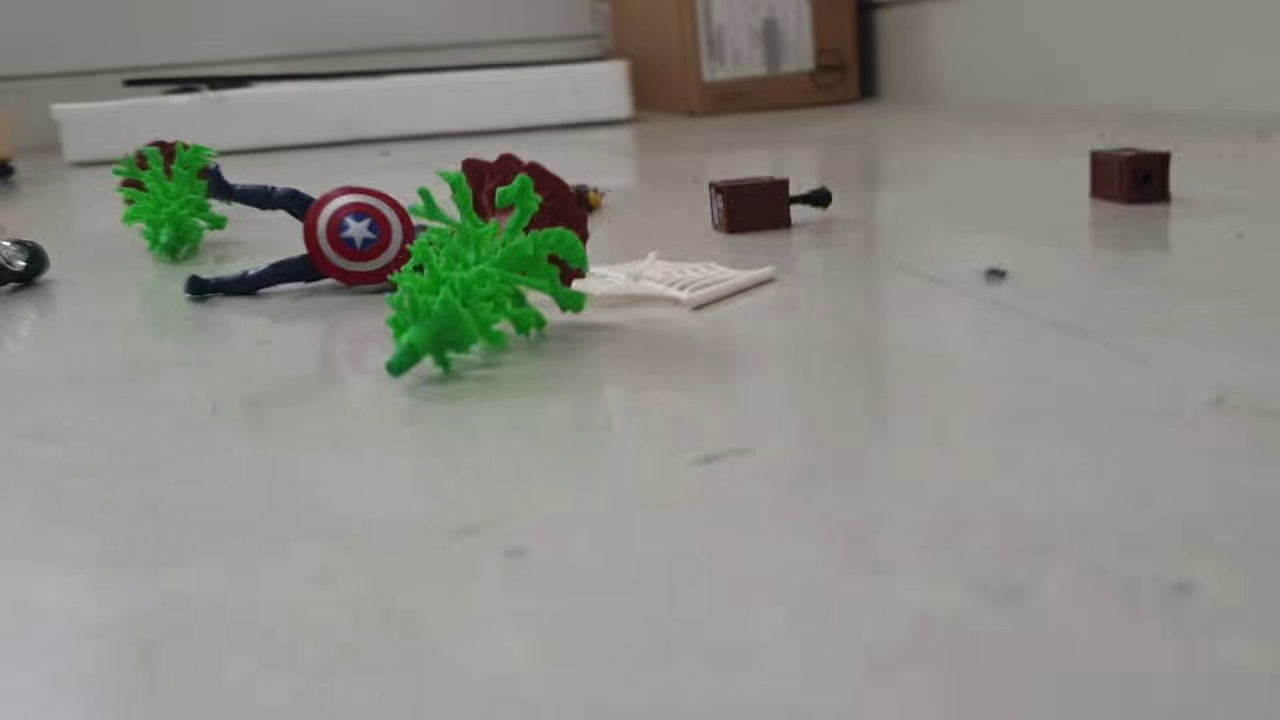box: (707, 174, 796, 236), (1088, 147, 1174, 209)
people: (181, 181, 423, 299)
tree: (384, 152, 592, 383), (111, 138, 230, 266)
web: (569, 249, 782, 312)
